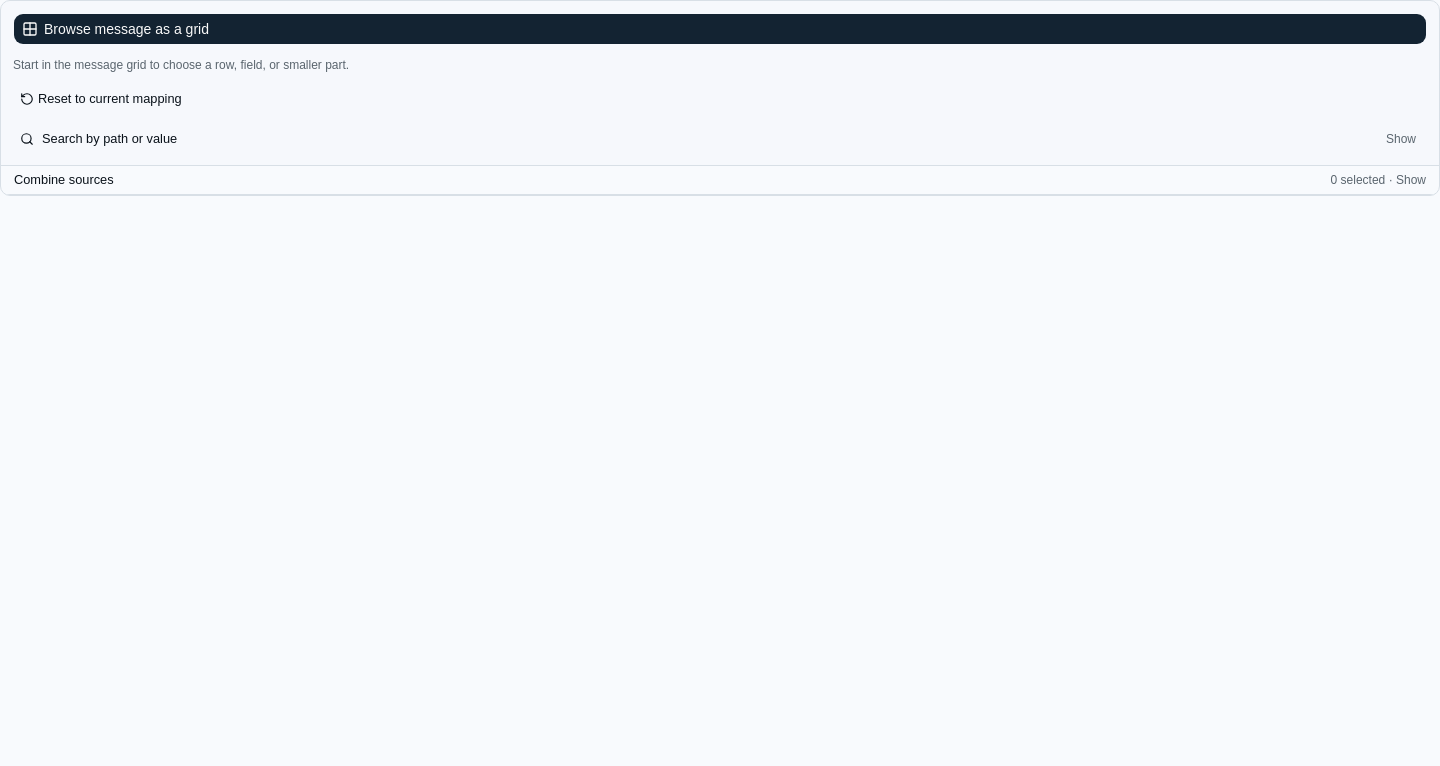
Test: HL7 source browser › blocks a whitespace-only split part before applying it
Click the button "Search by path or value Show" at point(110, 139), box [13,125,1427,153]
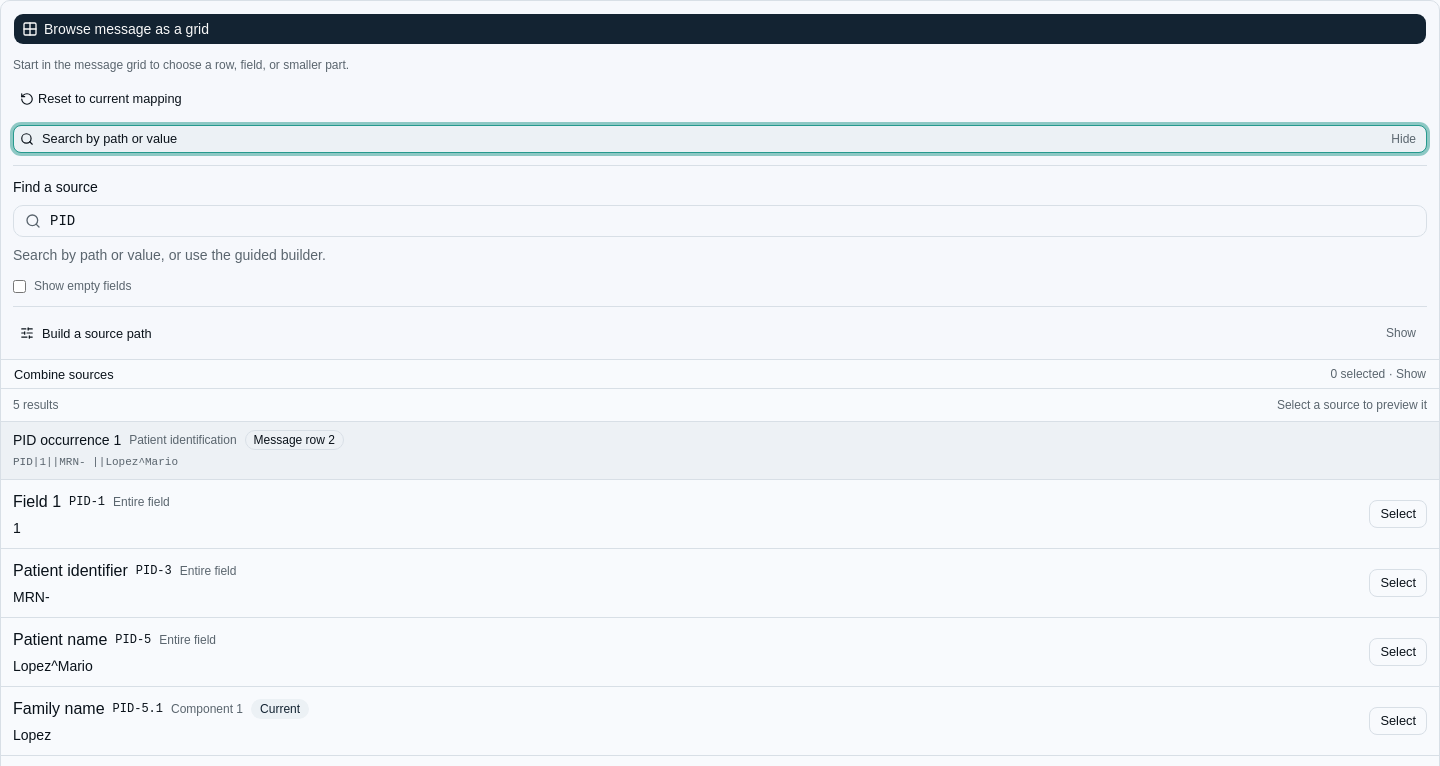
Replace the text in the field labelled "Find a source" with "PID-3" at point(720, 221), box [13,205,1427,237]
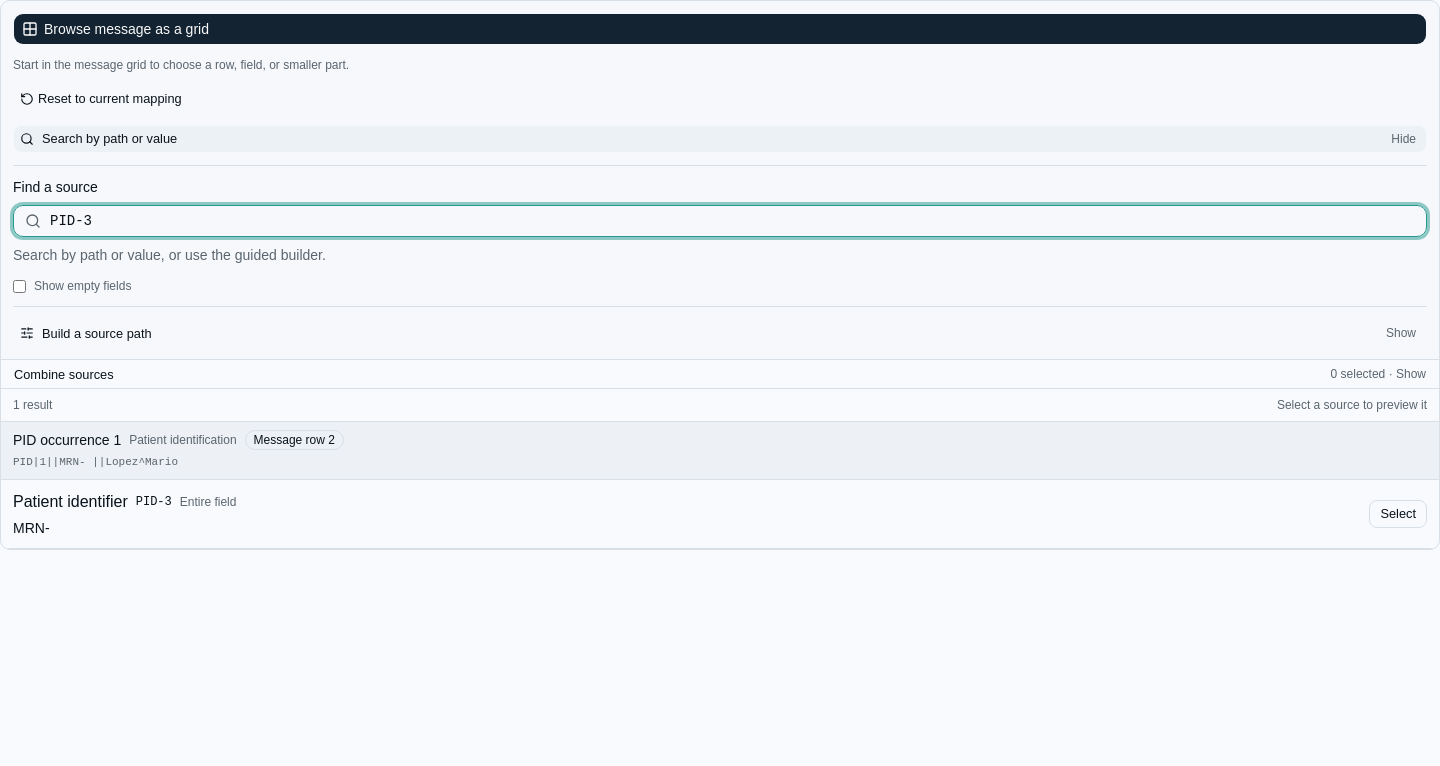
Click the button "Select" at point(1398, 514), box [1369,500,1427,528]
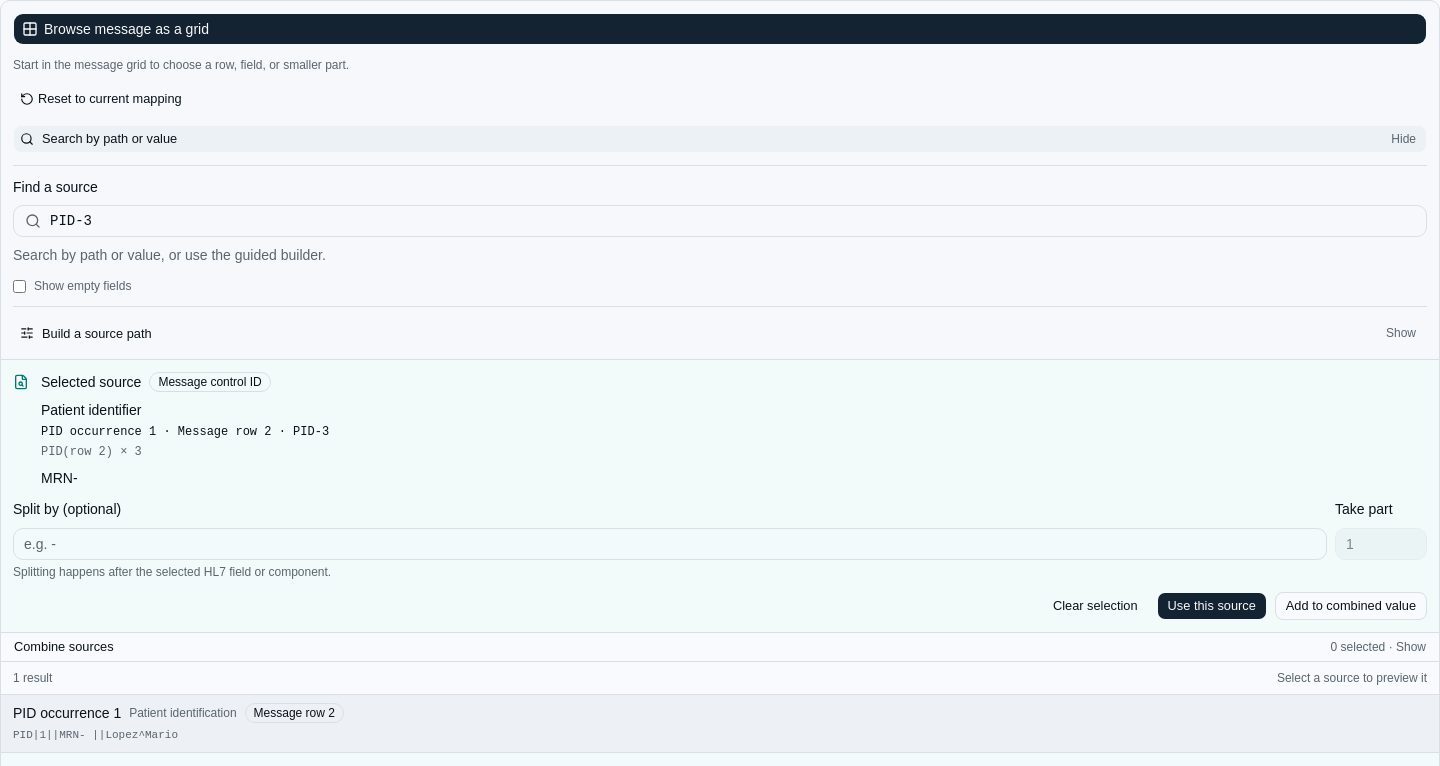
Type "-" into the field labelled "Split by (optional)" at point(670, 544), box [13,528,1327,560]
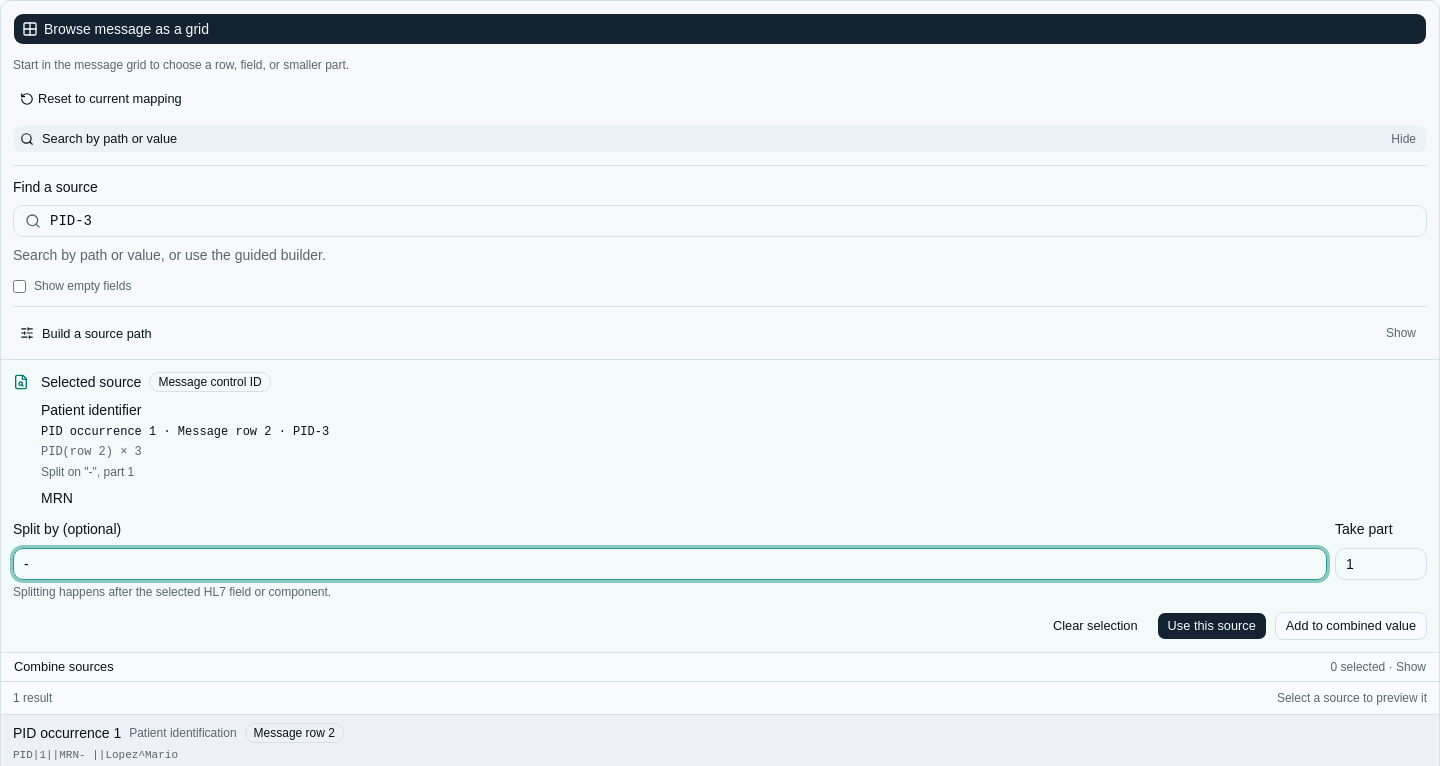
Clear the number field labelled "Take part" at point(1381, 564), box [1335,548,1427,580]
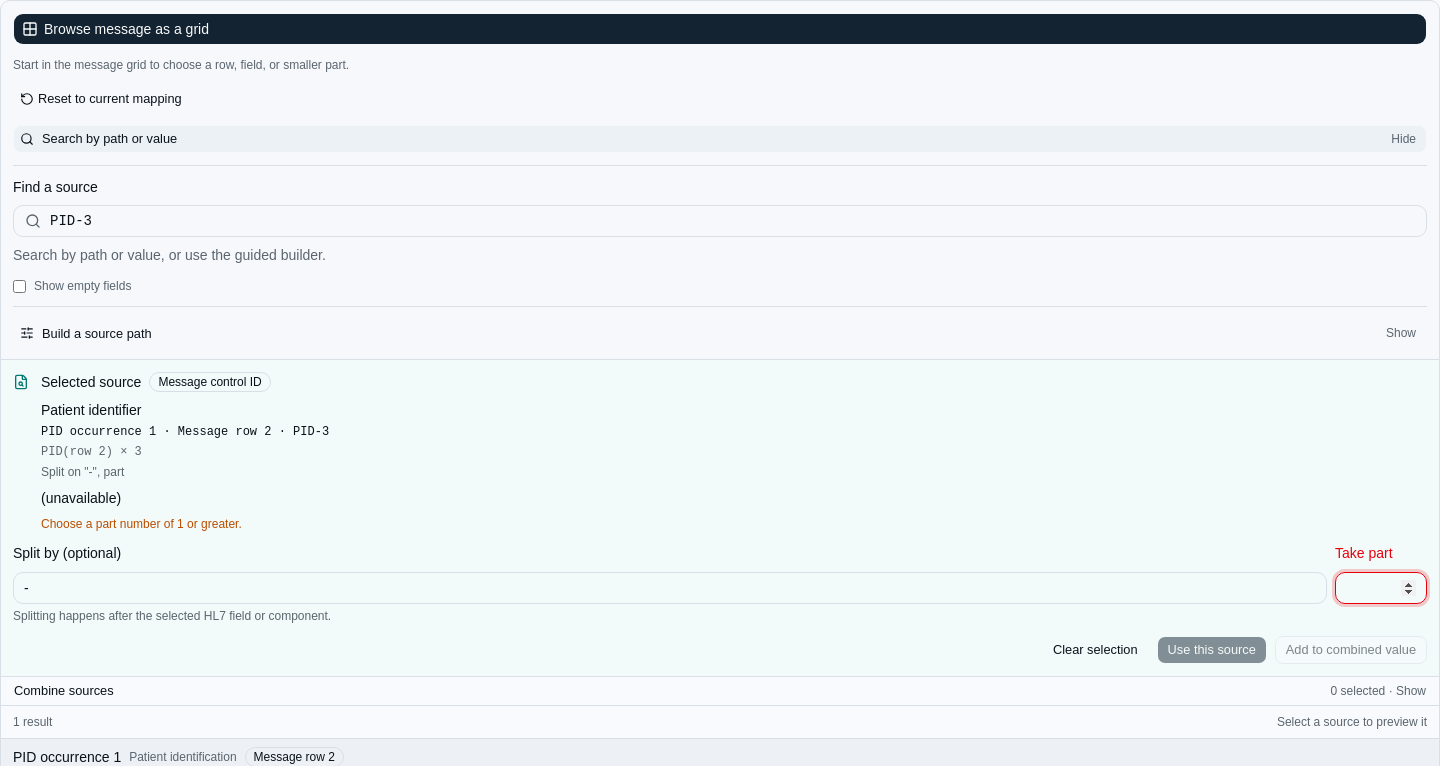
Type "2" into the number field labelled "Take part" at point(1381, 588), box [1335,572,1427,604]
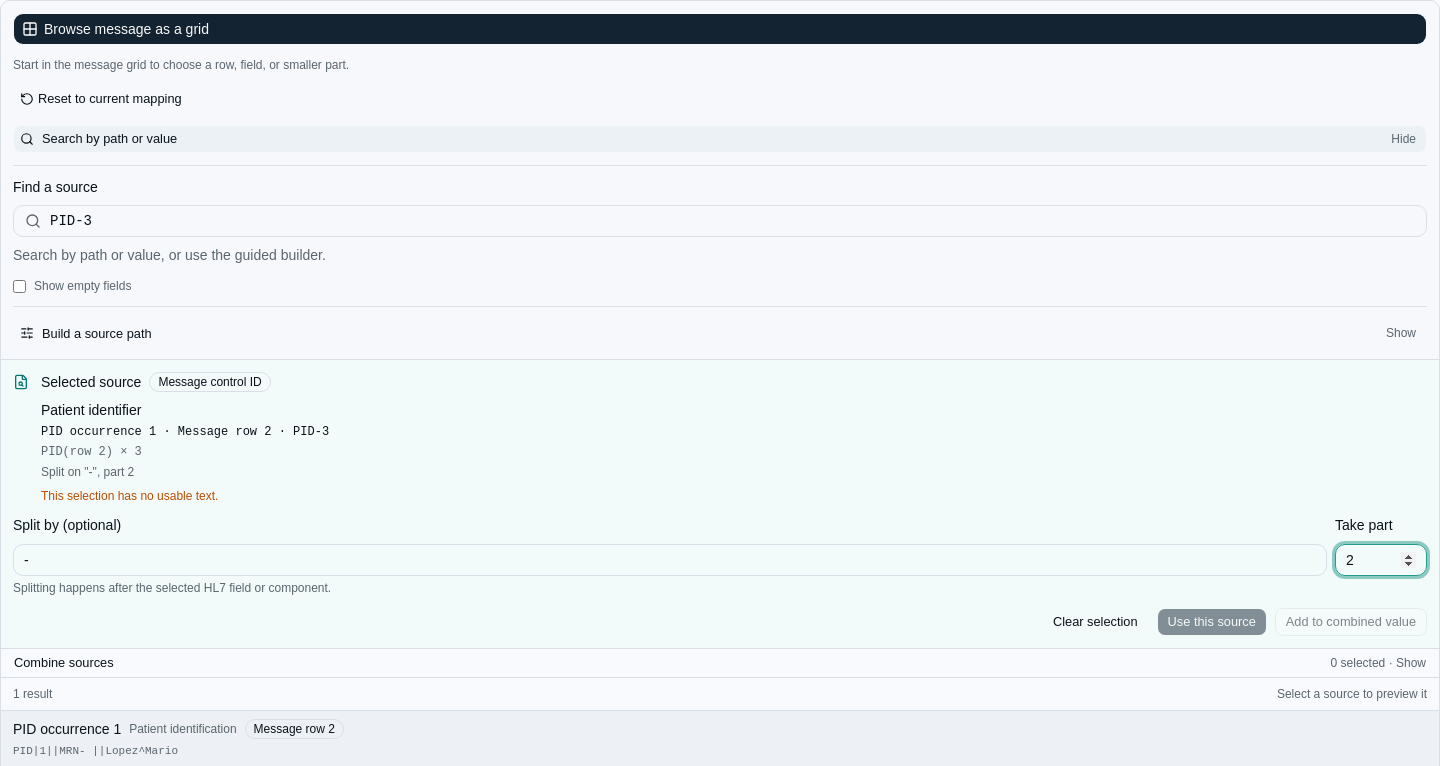
Result: the button "Use this source" is disabled at [1157,608,1267,636]
Result: the button "Add to combined value" is disabled at [1275,608,1427,636]
Result: the text "This selection has no usable text." is shown at [41,489,218,503]
